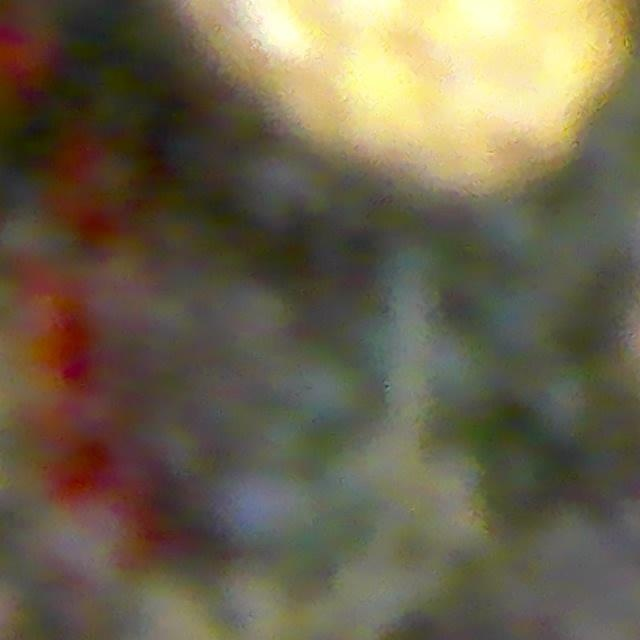SeaGrape: (221, 464, 310, 551), (82, 145, 146, 207)
